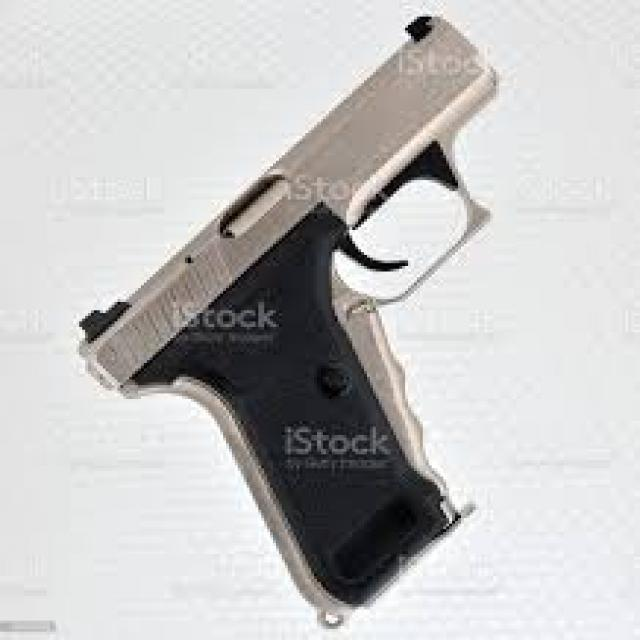semi automatic: (48, 4, 554, 630)
